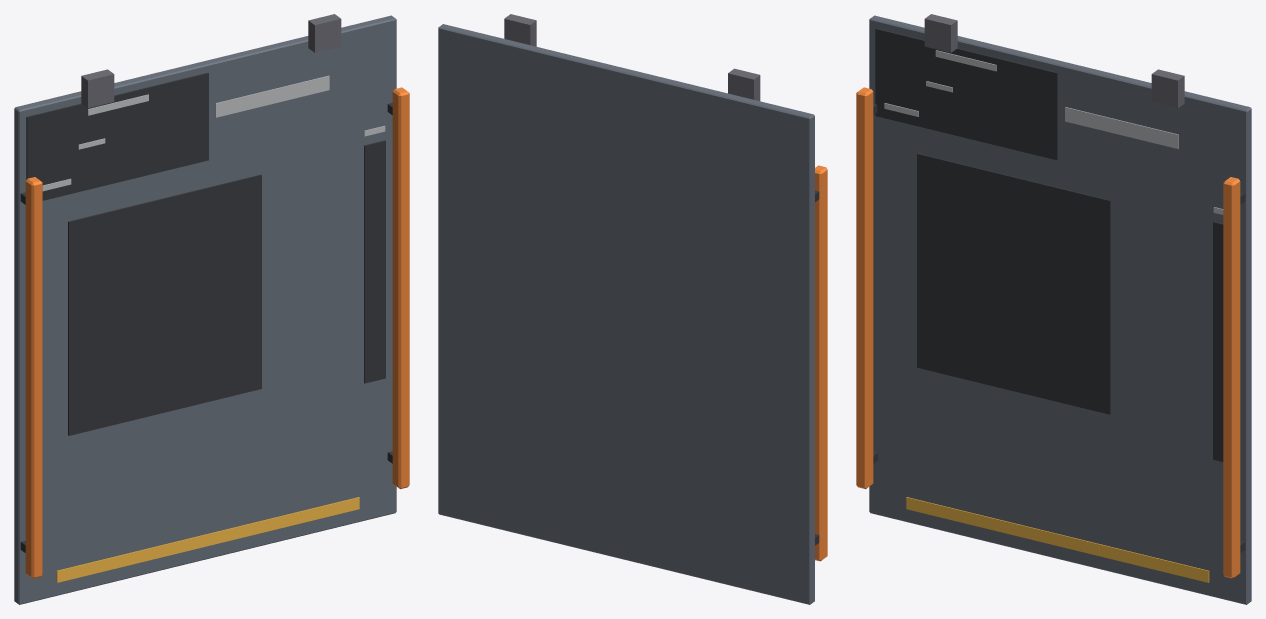
File: electrical_station_body.glb
3 views of the same model, side by side, from view 1: azimuth 30°, elevation 25°; view 2: azimuth 150°, elevation 25°; view 3: azimuth 330°, elevation 25° (orthographic).
Parts seen in each view (by area): view 1: ElectricalStationBody; view 2: ElectricalStationBody; view 3: ElectricalStationBody.
Part boxes in pixels (bbox=[...]): ElectricalStationBody: bbox=[14, 14, 409, 604]; ElectricalStationBody: bbox=[438, 14, 827, 604]; ElectricalStationBody: bbox=[856, 14, 1251, 604].
Bounding box in the file's own units: 1 × 1.3 × 0.086.
